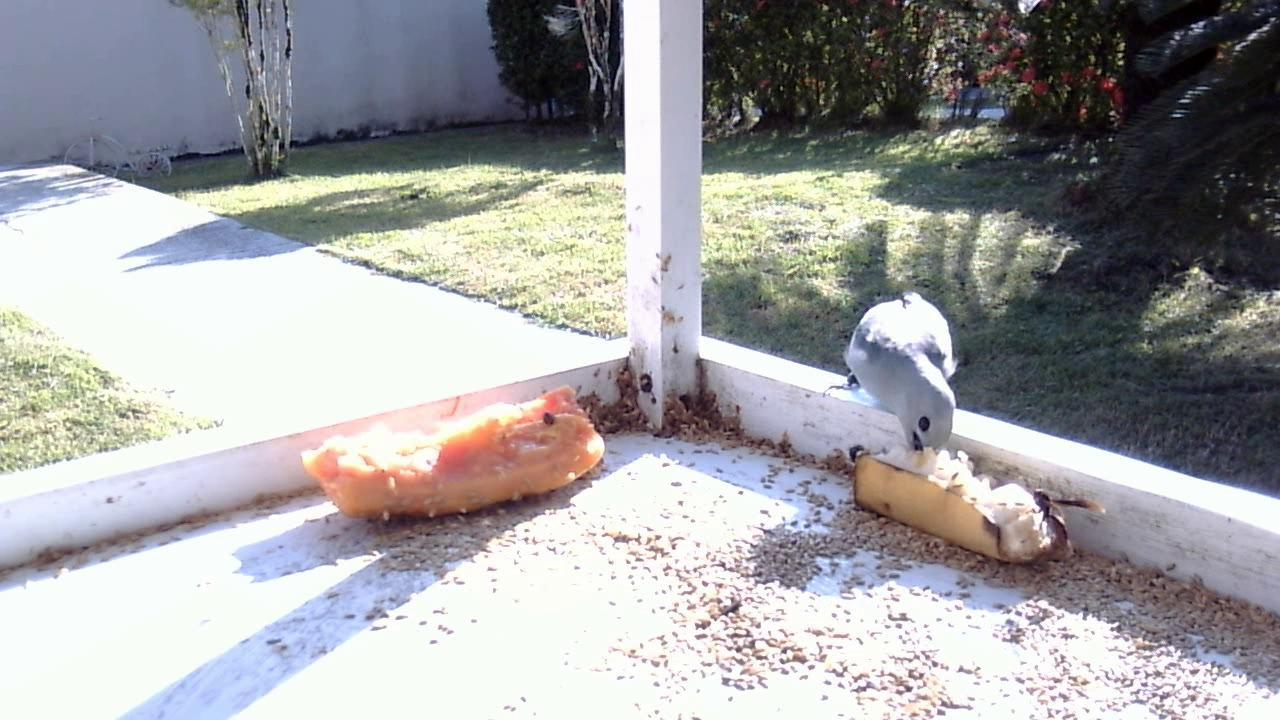sanhaco_da_amazonia: (826, 289, 964, 466)
